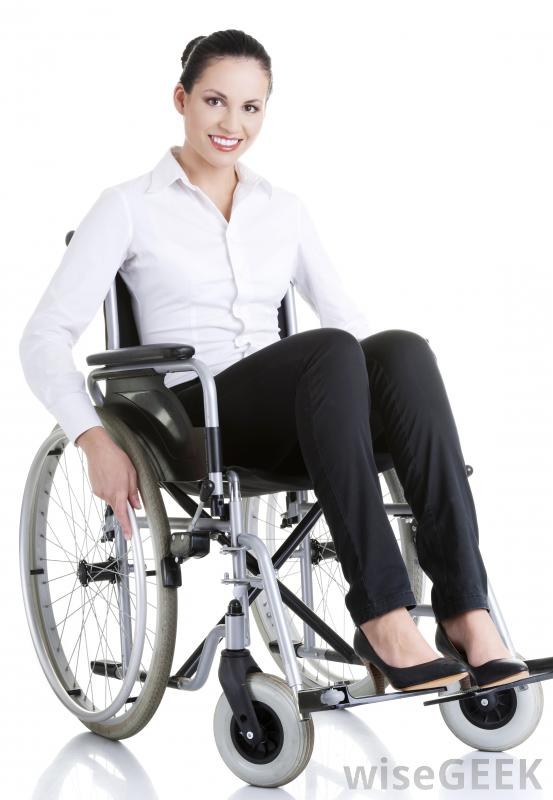person: (9, 20, 449, 359)
wheelchair: (18, 360, 469, 771)
